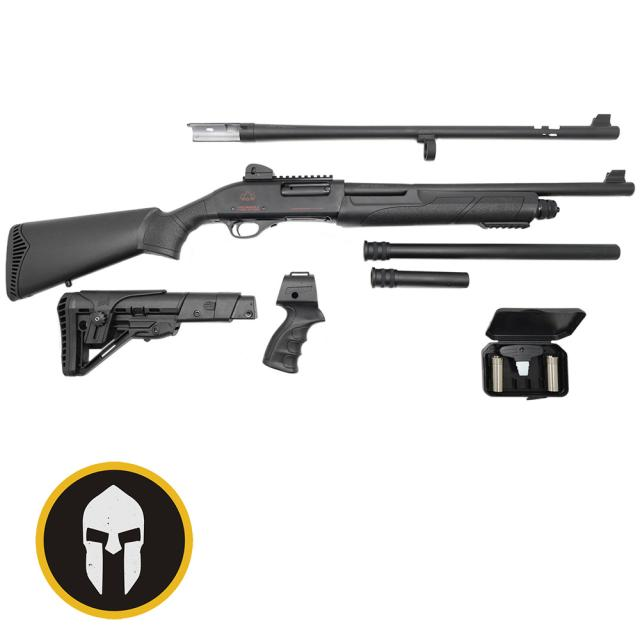ShotGun: (6, 166, 634, 300)
